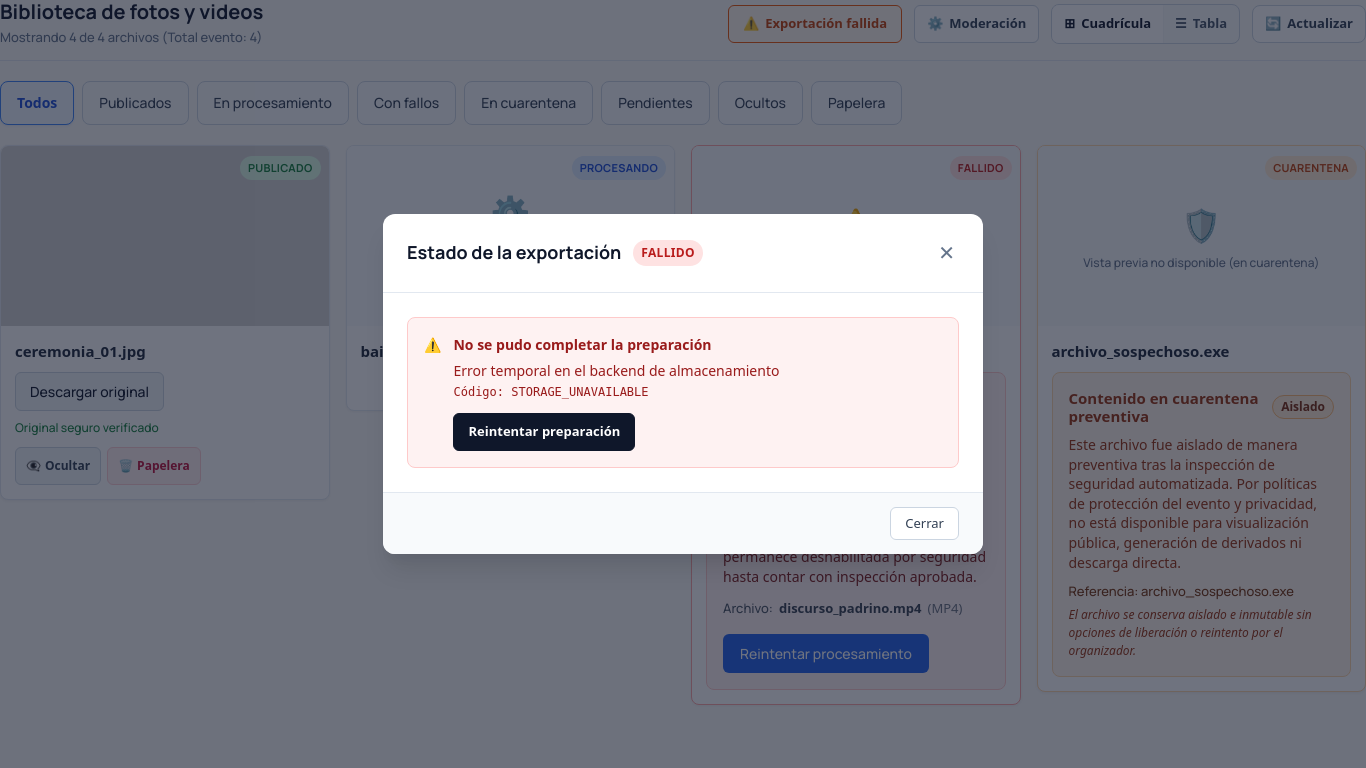
Test: OrganizerMediaLibraryComponent & Media Integration (EL-TK-100) › Recuperación individual y exportación (EL-TK-132) › permite reintentar una exportación fallida con incremento atómico de generación
The image size is (1366, 768).
What coordinates should you click on to do the following:
click the button with class "btn-retry-export"
I would click on:
 (544, 432)
Its box is x1=454 y1=413 x2=635 y2=451.
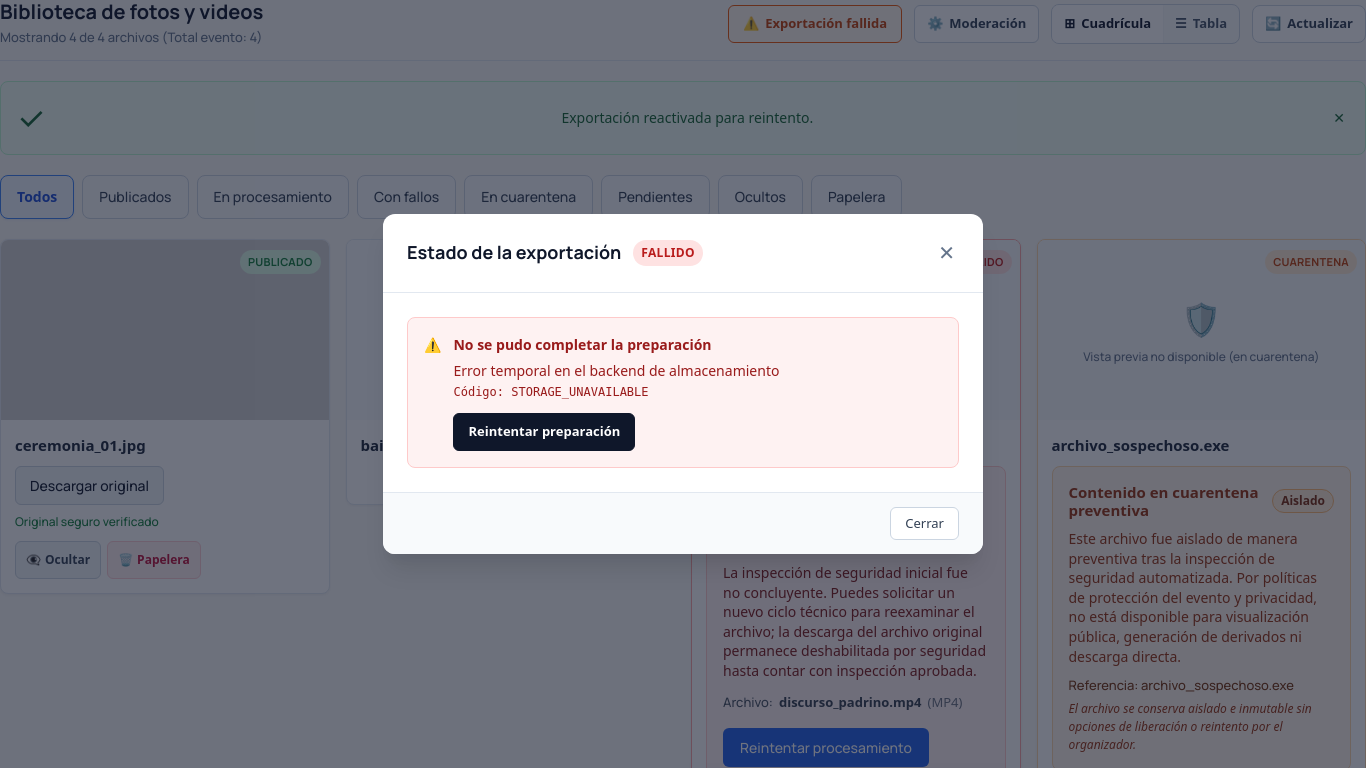
Now the message with class "alert-success" shows "Exportación reactivada para reintento.", box x1=561 y1=108 x2=813 y2=127
